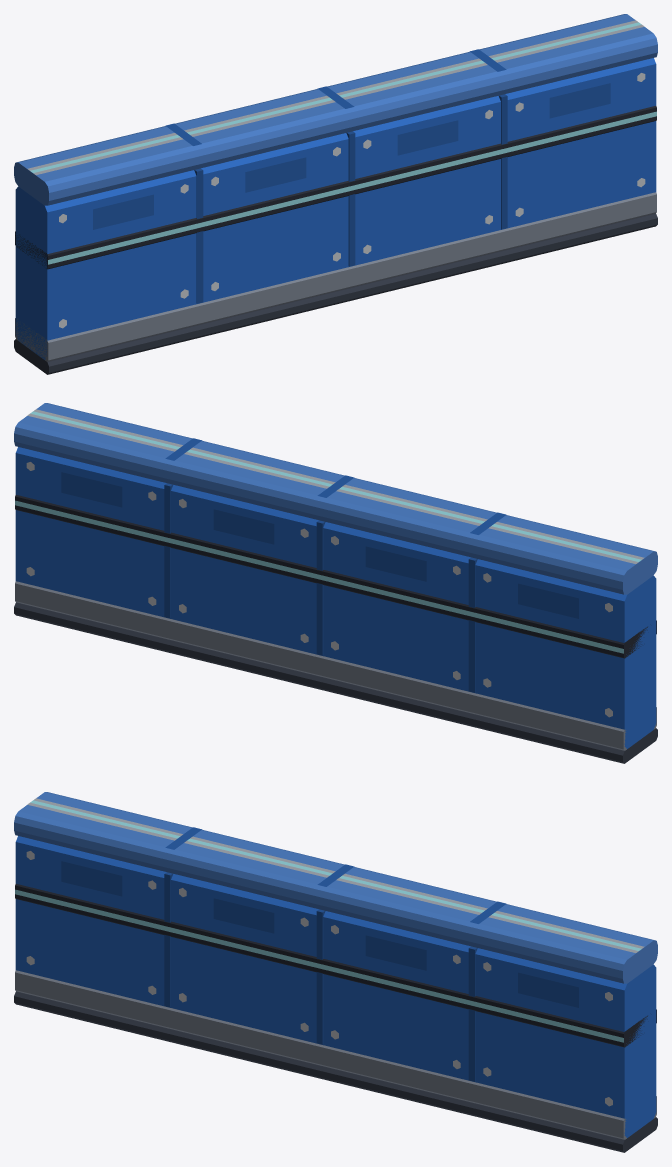
The model's file is space-wall2.glb.
3 renders of one model, top to bottom at view 1: azimuth 30°, elevation 25°; view 2: azimuth 150°, elevation 25°; view 3: azimuth 330°, elevation 25°, orthographic.
Parts seen in each view (by area): view 1: space-wall2; view 2: space-wall2; view 3: space-wall2.
Part boxes in pixels (x1,y1,x2,y2): space-wall2: [14, 14, 657, 374]; space-wall2: [14, 403, 657, 763]; space-wall2: [14, 792, 657, 1152].
Size of the model in its own units: 4 by 1.2 by 0.4.
